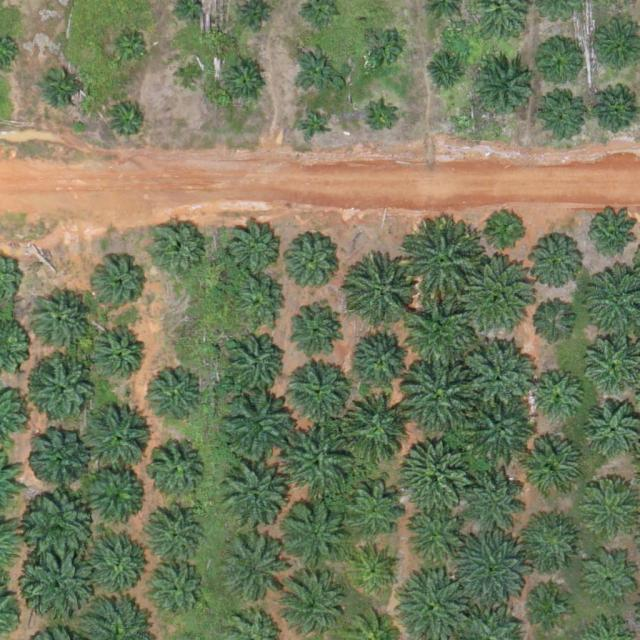Healthy: (405, 227, 483, 306), (467, 261, 538, 332), (335, 476, 406, 547), (456, 533, 527, 603), (467, 395, 537, 466), (464, 341, 534, 412), (407, 300, 477, 371), (401, 364, 472, 434), (399, 439, 470, 509), (340, 395, 410, 466), (284, 429, 354, 500), (281, 498, 351, 569), (222, 393, 292, 464), (81, 402, 151, 473), (29, 357, 99, 428), (25, 494, 95, 565), (21, 552, 92, 622), (144, 506, 207, 569), (30, 290, 93, 353), (466, 463, 528, 526), (354, 328, 416, 391), (350, 264, 413, 326), (281, 230, 343, 293), (289, 361, 352, 423), (219, 538, 281, 601), (224, 332, 287, 394), (141, 368, 203, 431), (147, 439, 209, 502), (145, 561, 207, 624), (88, 531, 150, 594), (83, 464, 145, 527), (28, 427, 90, 490), (472, 57, 534, 120), (522, 439, 584, 501), (221, 467, 283, 529), (528, 237, 583, 293), (585, 336, 640, 391), (529, 370, 584, 425), (403, 510, 458, 565), (286, 303, 341, 358), (235, 274, 290, 329), (149, 221, 204, 276), (89, 328, 144, 383), (586, 401, 640, 456), (525, 514, 579, 569), (228, 223, 282, 278), (95, 258, 149, 313), (589, 558, 636, 606), (539, 93, 586, 140)
Small: (348, 544, 403, 599), (585, 209, 640, 264), (41, 64, 88, 112), (529, 303, 576, 350), (222, 58, 269, 105), (294, 47, 341, 94), (530, 588, 570, 628), (537, 45, 577, 84), (427, 56, 467, 95), (488, 210, 527, 250), (110, 102, 149, 141), (362, 28, 401, 67), (110, 28, 149, 67), (366, 104, 397, 136), (299, 110, 330, 142), (175, 61, 206, 92)
